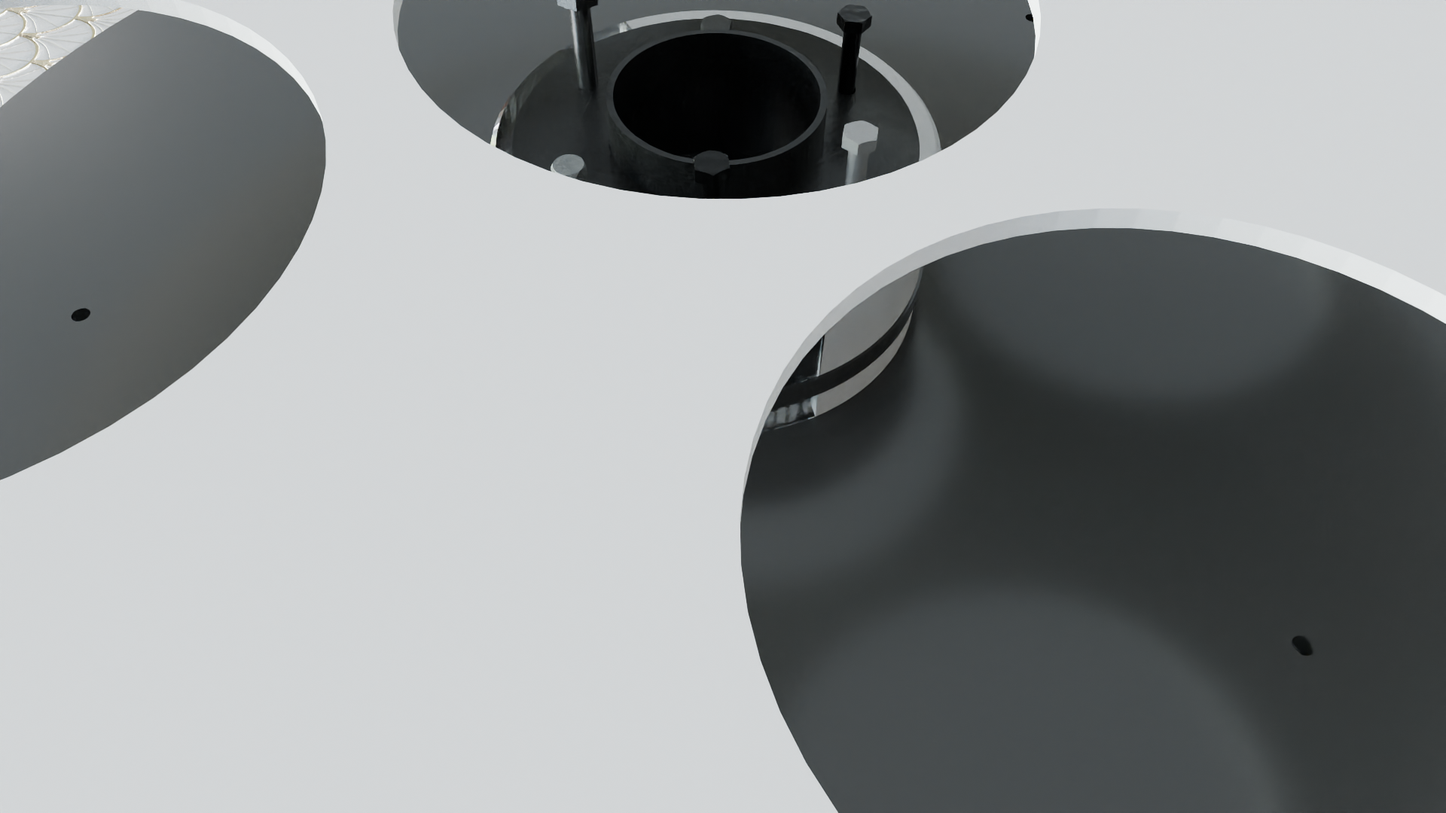bolt: (693, 150, 730, 176), (843, 120, 879, 145), (551, 154, 587, 178), (837, 5, 872, 23), (700, 14, 732, 30)
